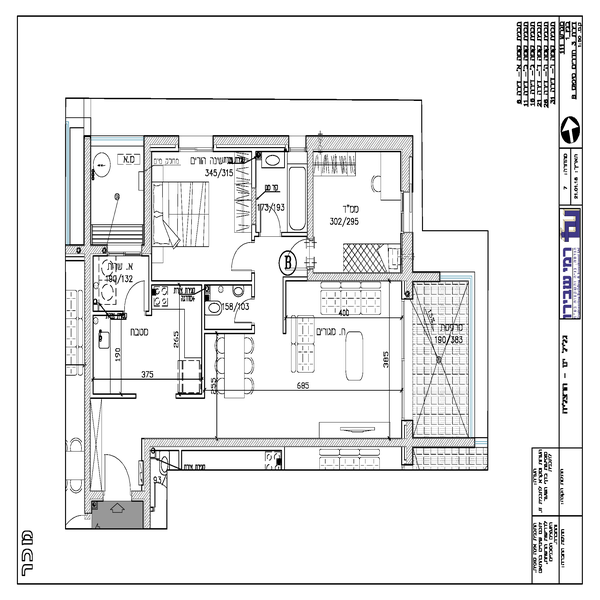door: (98, 443, 135, 495), (124, 274, 151, 315), (286, 240, 316, 273), (227, 240, 255, 274), (257, 203, 284, 235), (232, 296, 257, 324)
room: (196, 270, 476, 451), (139, 131, 293, 280), (86, 252, 203, 404), (307, 133, 415, 284), (81, 134, 156, 262)
wall: (81, 134, 92, 516), (142, 439, 476, 448), (306, 135, 411, 152), (211, 135, 287, 152), (143, 141, 153, 257), (398, 233, 415, 299), (308, 274, 443, 281), (141, 438, 150, 531), (398, 152, 414, 194), (400, 421, 415, 464), (143, 134, 180, 149)
window: (180, 132, 211, 158), (401, 192, 417, 232), (108, 244, 140, 258)
